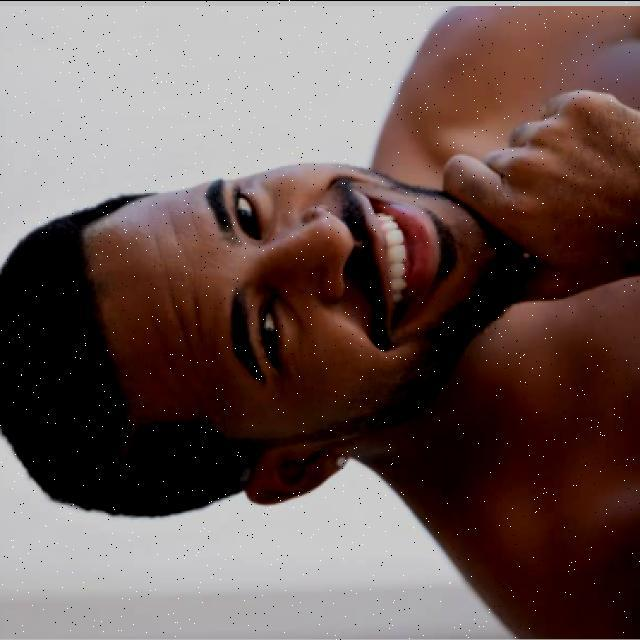face_no_mask: (107, 159, 509, 505)
